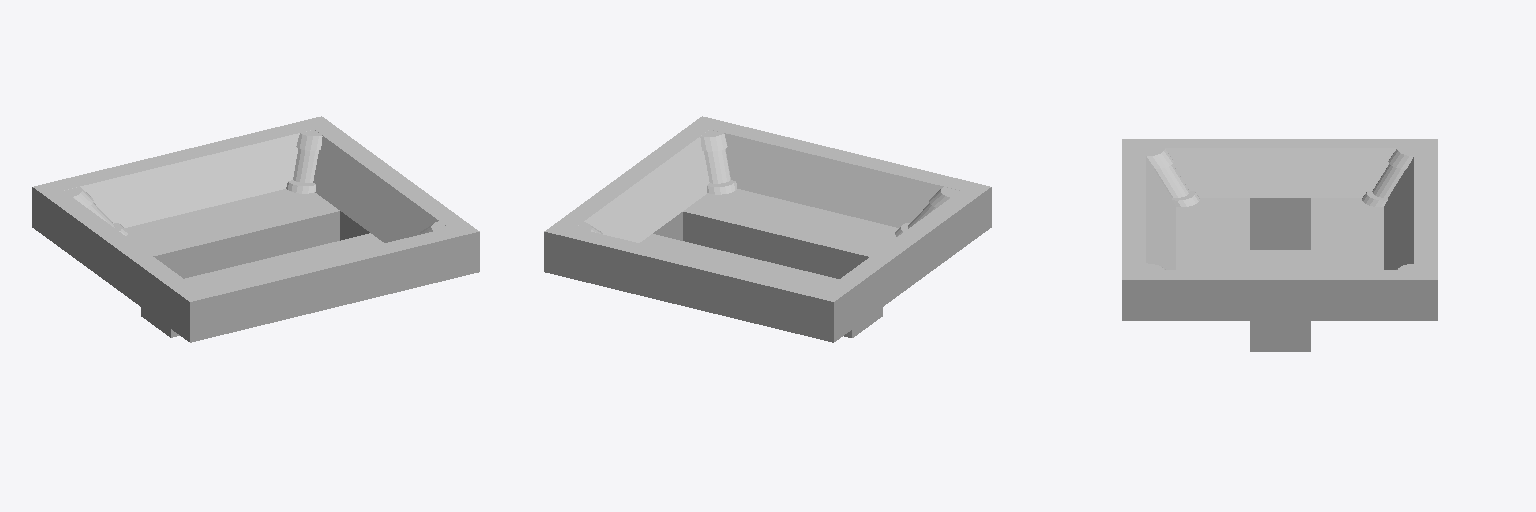
Rendered from lvl_2.obj.
3 renders of one model, left to right at view 1: azimuth 30°, elevation 25°; view 2: azimuth 150°, elevation 25°; view 3: azimuth 270°, elevation 25°, orthographic.
Visible parts, largest first — view 1: lvl2; view 2: lvl2; view 3: lvl2.
Boxes of the visible parts, box(x1,y1,x2,y2) form: lvl2: box(32, 116, 479, 342); lvl2: box(544, 116, 991, 342); lvl2: box(1122, 139, 1437, 351).
Size of the model in its own units: 13.36 by 4.13 by 12.6.